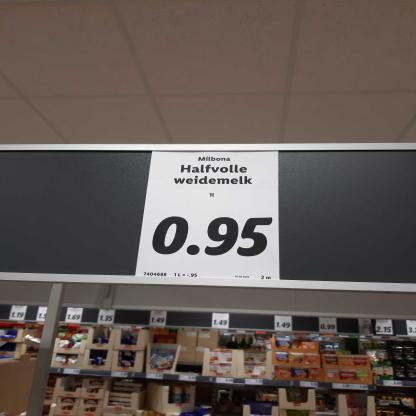prtg: (136, 152, 281, 280)
